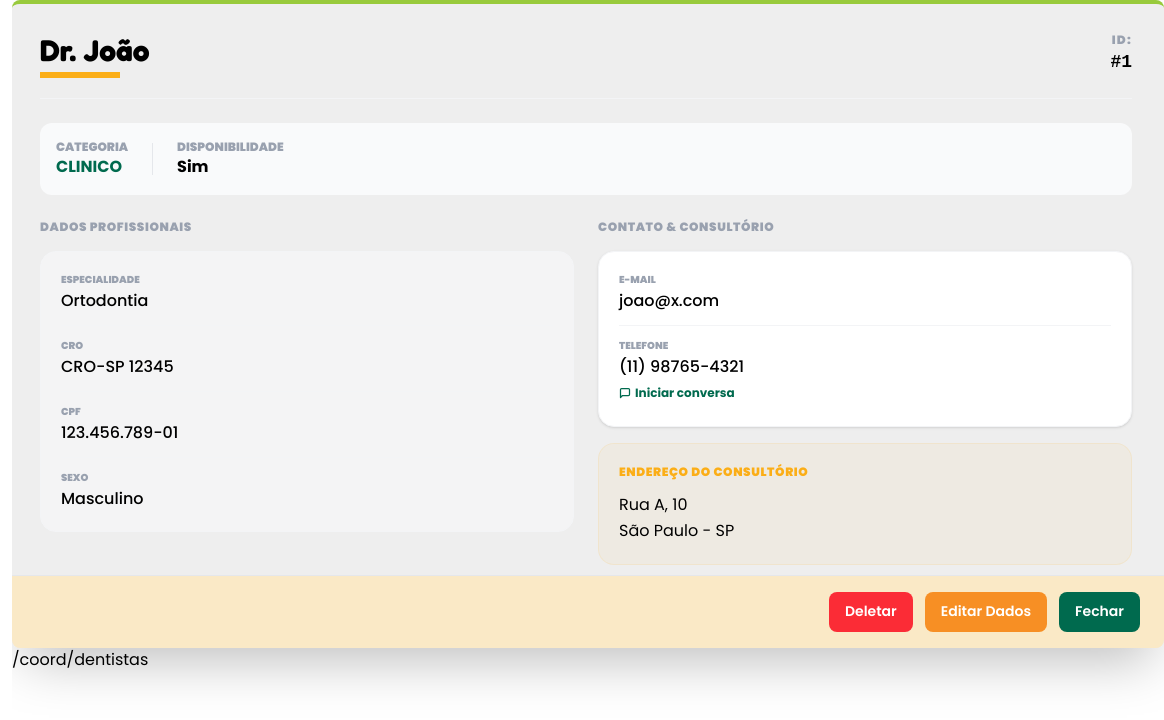
it: DentistaDetails › link de conversa usa o prefixo da área atual
Click the link "Iniciar conversa" at (677, 393), box [619, 385, 735, 401]
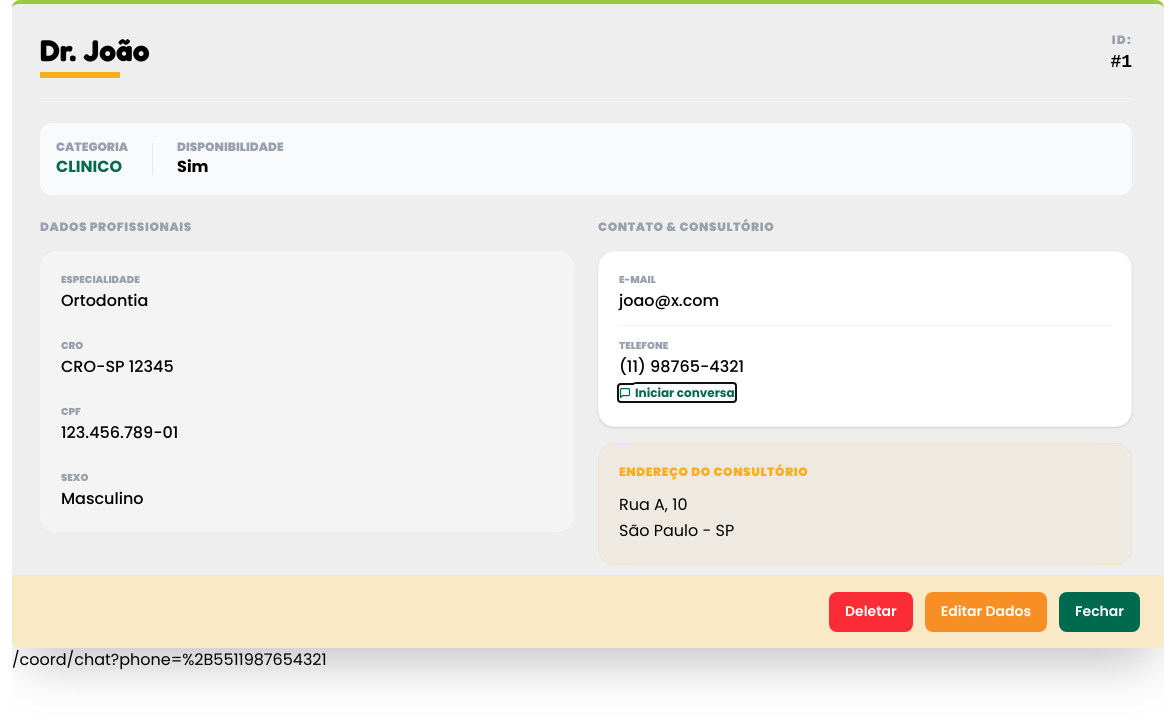
expect the text with test id "local" reads "/coord/chat?phone=%2B5511987654321": met, box [12, 648, 327, 671]
